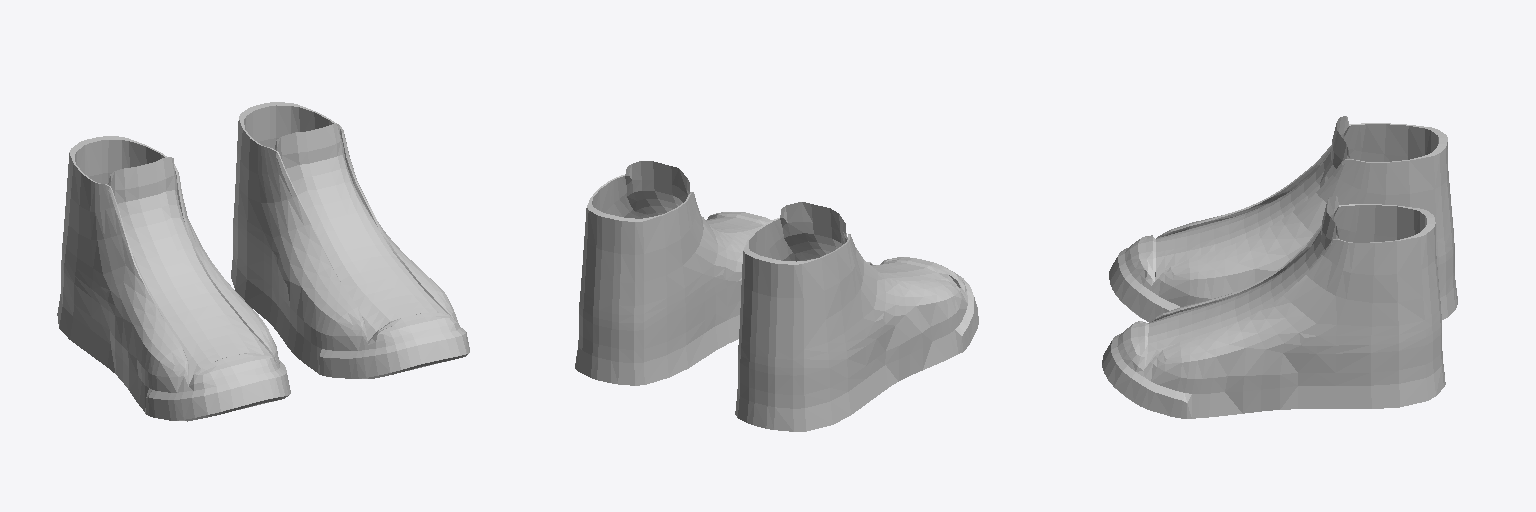
Rendered from Ankle_Converse_Base.obj.
3 views of the same model, side by side, from view 1: azimuth 30°, elevation 25°; view 2: azimuth 150°, elevation 25°; view 3: azimuth 270°, elevation 25° (orthographic).
Parts seen in each view (by area): view 1: polySurface30 rivet1, polySurface7; view 2: polySurface30 rivet1, polySurface7; view 3: polySurface7, polySurface30 rivet1.
Part boxes in pixels (x1,y1,x2,y2): polySurface30 rivet1: (57,136,290,421); polySurface7: (231,102,469,378); polySurface30 rivet1: (735,202,978,431); polySurface7: (575,161,771,385); polySurface7: (1102,196,1445,418); polySurface30 rivet1: (1109,116,1457,321).
Bounding box in the file's own units: 32.52 × 18.65 × 32.87.